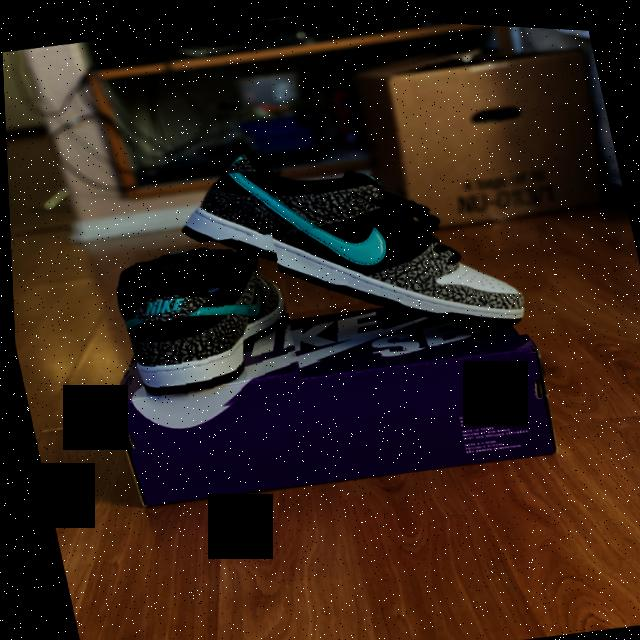shoe: (154, 85, 549, 386), (88, 223, 305, 428)
